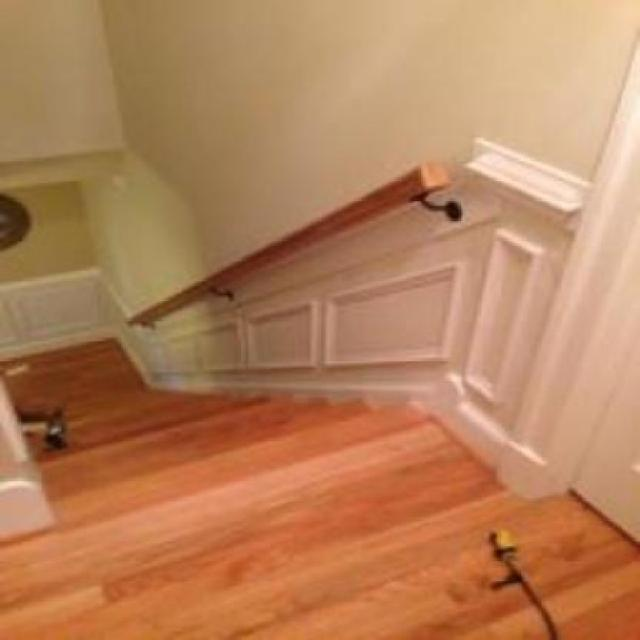stair: (29, 380, 434, 525)
